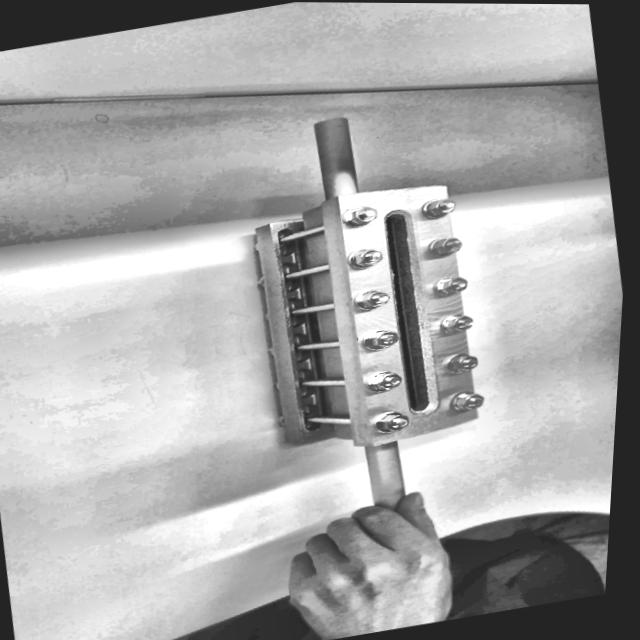ShuiWeiQi_12: (208, 84, 564, 529)
